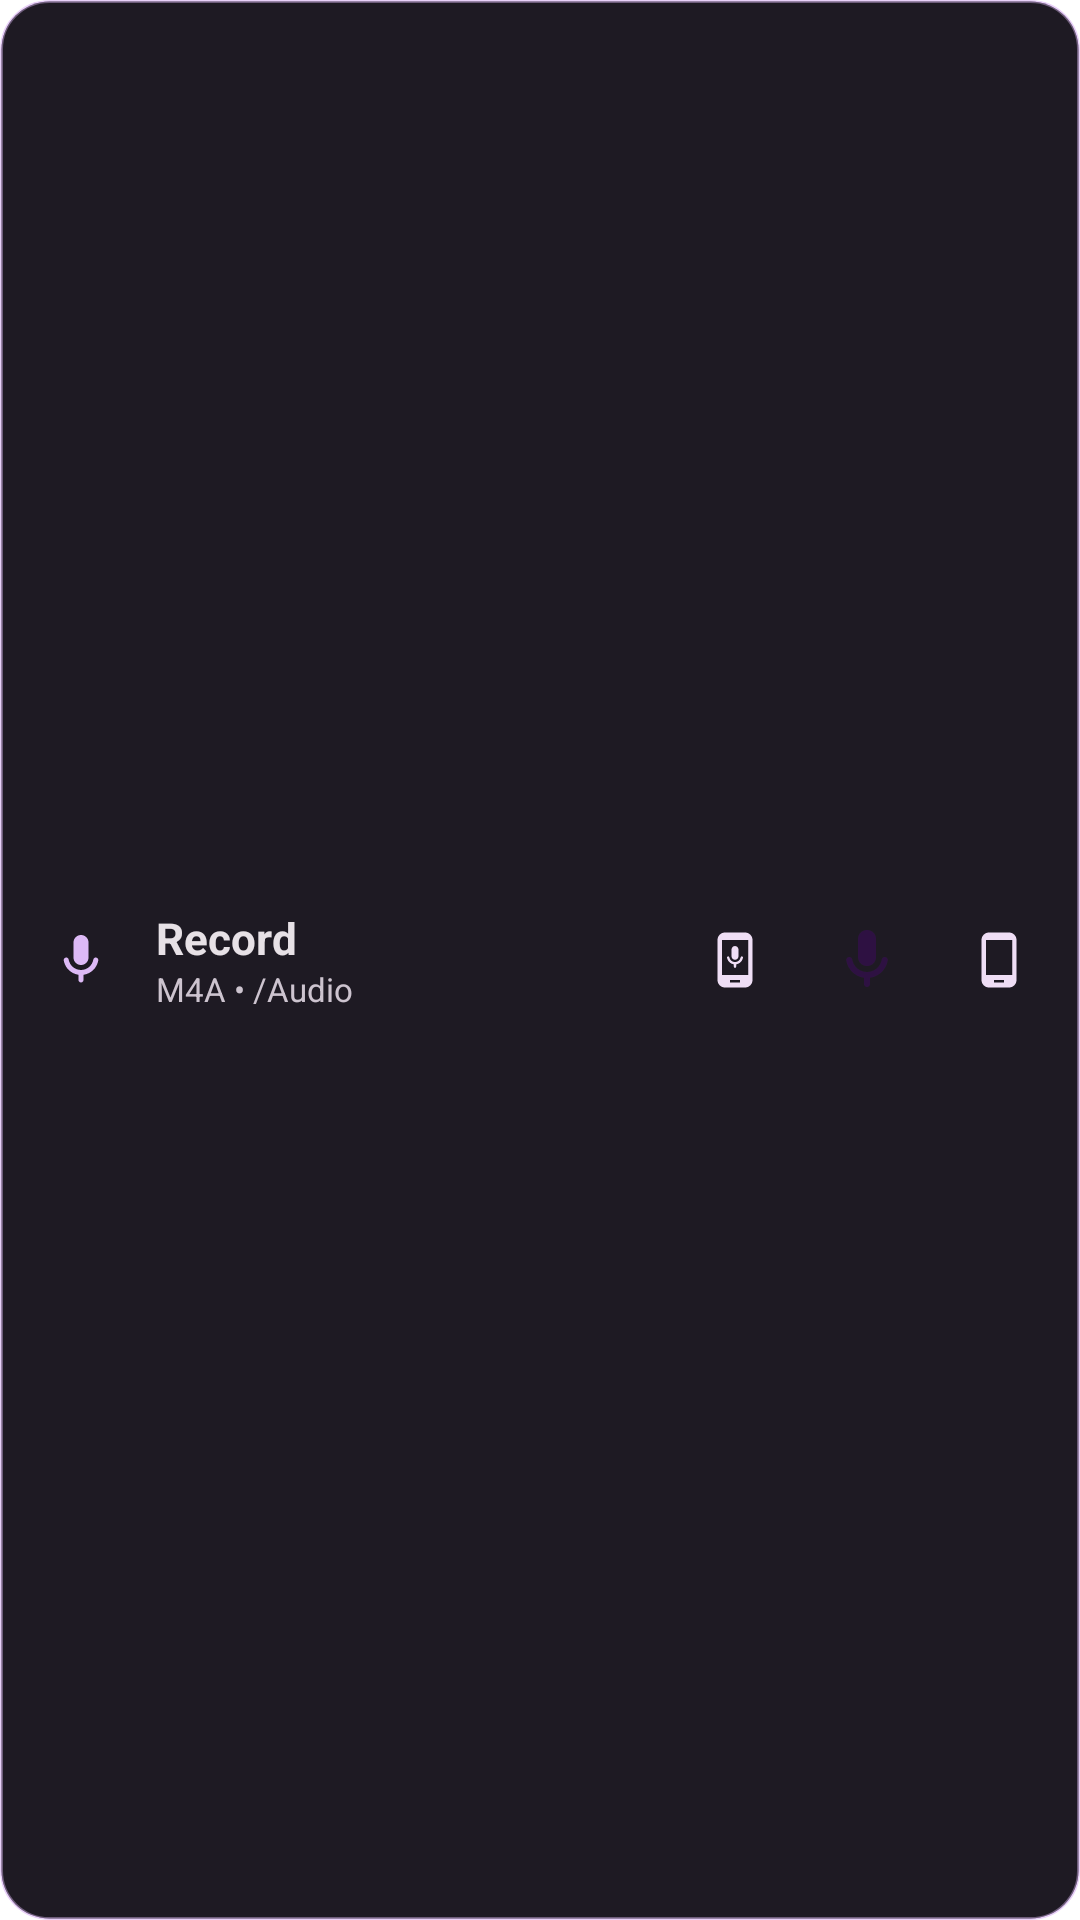

Where icons sit on this 1080x1920 app screen, as (x1, y1, x2, y2):
widget device and mic: (717, 932, 753, 988)
widget mic: (847, 930, 887, 987), (63, 935, 99, 983)
widget phone android: (981, 932, 1017, 988)
